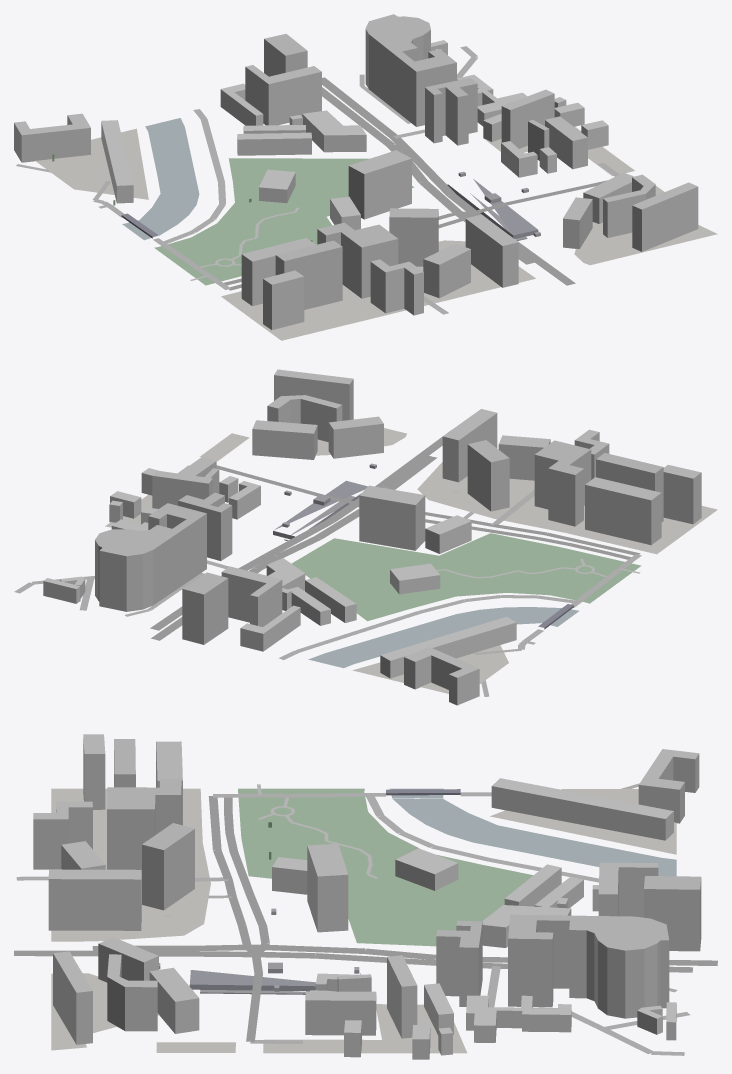
The picture shows the model from 3 angles, top to bottom: view 1: azimuth 30°, elevation 25°; view 2: azimuth 150°, elevation 25°; view 3: azimuth 270°, elevation 25°; orthographic projection. The views are drawn at different scales.
Bounding box in the file's own units: 534 × 77.44 × 563.
